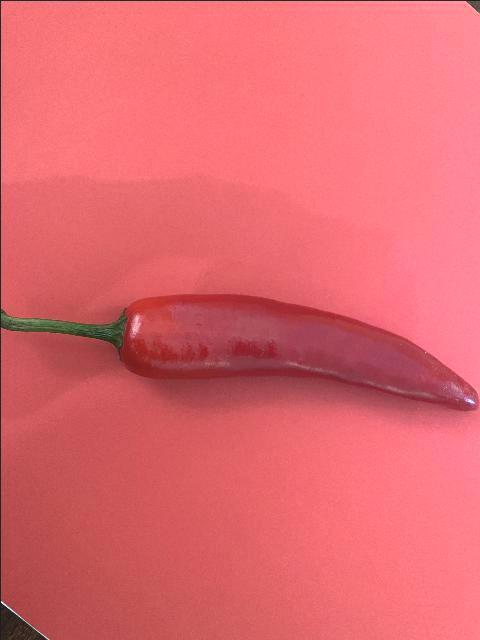chilli: (0, 290, 480, 414)
